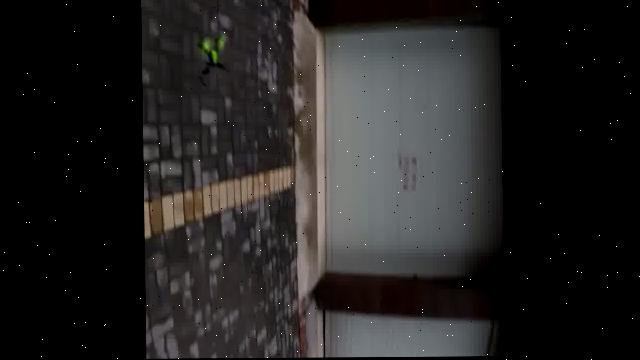drone: (190, 22, 236, 97)
